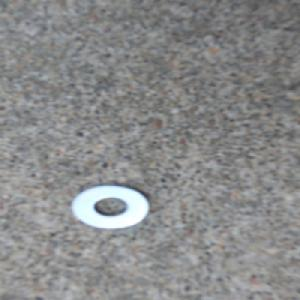Washer: (68, 182, 151, 231)
